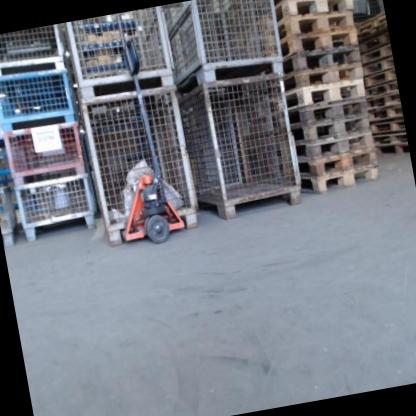pallet: (281, 47, 364, 80), (280, 27, 362, 60), (278, 10, 358, 43), (284, 62, 367, 93), (290, 97, 370, 129), (287, 81, 367, 112), (294, 117, 372, 146), (296, 133, 374, 162), (299, 149, 378, 177), (302, 167, 380, 193), (276, 0, 356, 24), (364, 70, 397, 89), (373, 131, 407, 147), (358, 11, 386, 30), (367, 92, 398, 109), (361, 25, 389, 43), (373, 119, 404, 135), (366, 82, 399, 97), (361, 36, 390, 53), (370, 106, 401, 121), (362, 49, 391, 65), (366, 60, 394, 75), (378, 142, 408, 155)
pallet_truck: (87, 32, 193, 249)
stillage: (173, 73, 307, 226), (80, 81, 199, 248), (160, 0, 286, 91), (65, 6, 174, 101), (14, 174, 96, 244), (2, 120, 85, 186), (0, 63, 76, 130), (0, 24, 67, 77)
